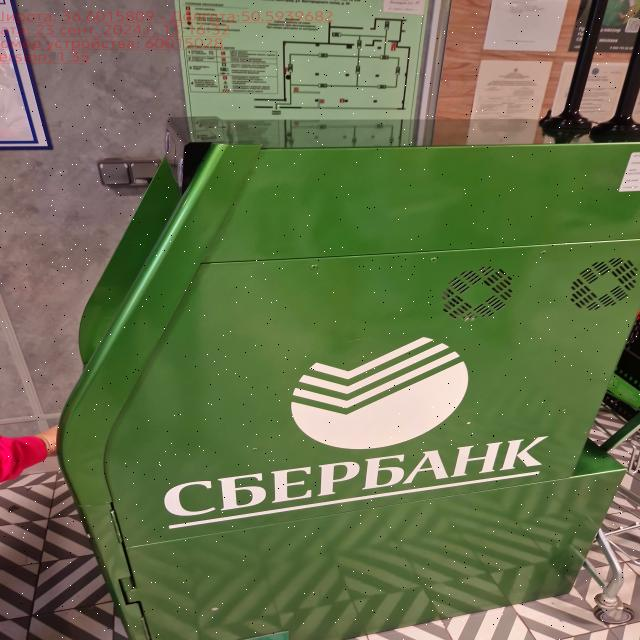bank: (57, 115, 640, 640)
